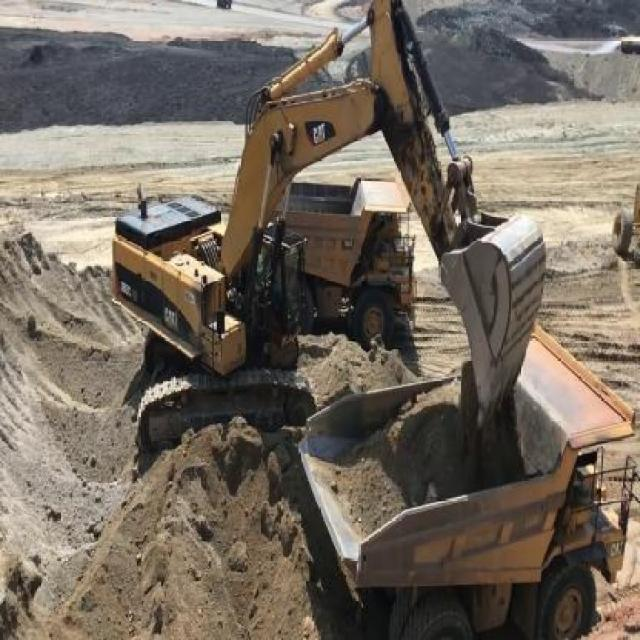Dump Truck: (294, 332, 638, 636), (286, 171, 417, 346)
Excavator: (111, 0, 548, 466)
